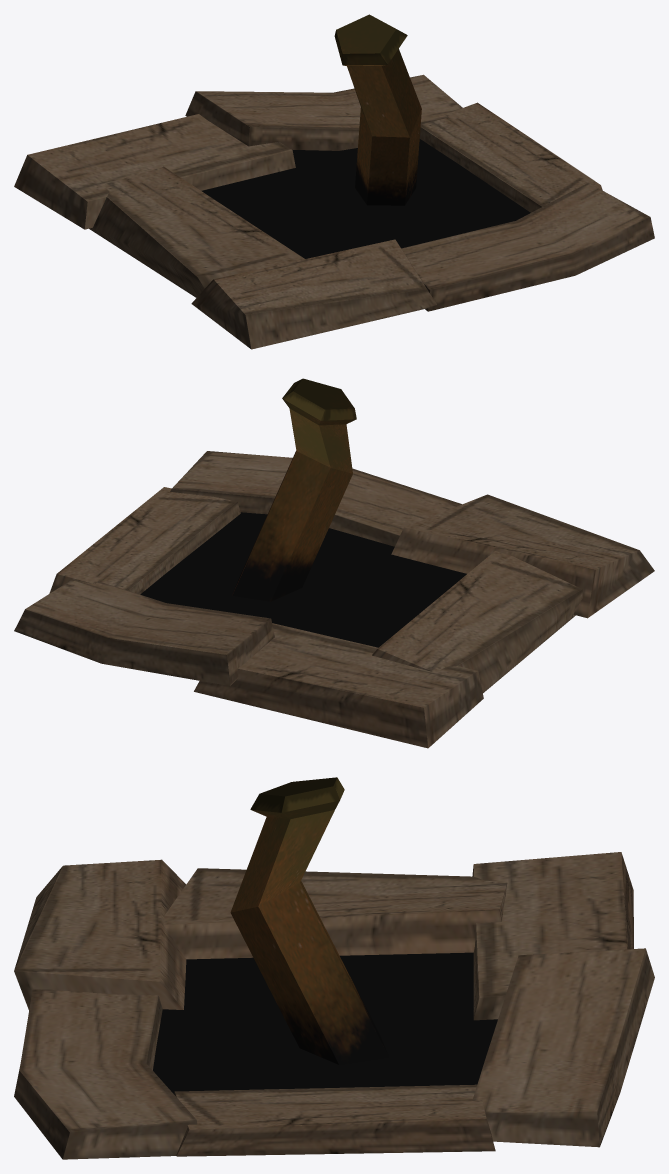
The model's file is pitFall_single.fbx.
The picture shows the model from 3 angles, top to bottom: view 1: azimuth 30°, elevation 25°; view 2: azimuth 150°, elevation 25°; view 3: azimuth 270°, elevation 25°; orthographic projection. The views are drawn at different scales.
Parts seen in each view (by area): view 1: polySurface9; view 2: polySurface9; view 3: polySurface9.
Boxes of the visible parts, x1,y1,x2,y2 form: polySurface9: (14,14,654,349); polySurface9: (14,378,654,748); polySurface9: (14,777,654,1159).
Bounding box in the file's own units: 81.89 × 40.78 × 81.06.
